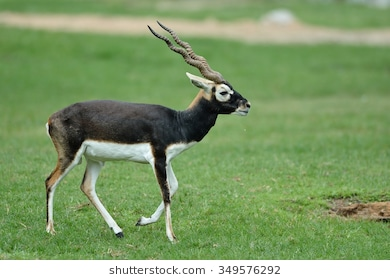Blackbuck: (44, 20, 253, 246)
